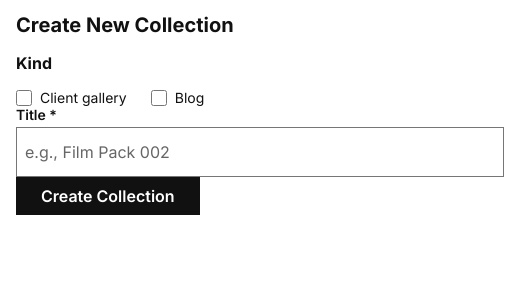
Test: CreateCollectionForm › surfaces an API error and does not redirect
Type "X" into the field labelled "Title *".
click(260, 152); type("X")  # box [16, 127, 504, 177]
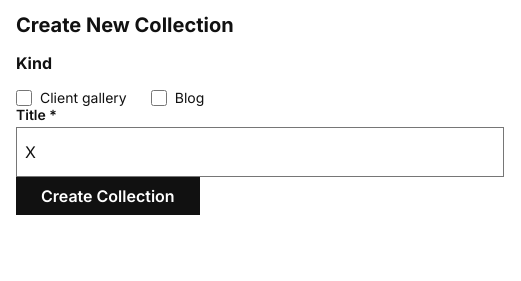
Click the button "Create Collection".
click(108, 196)  # box [16, 177, 200, 215]
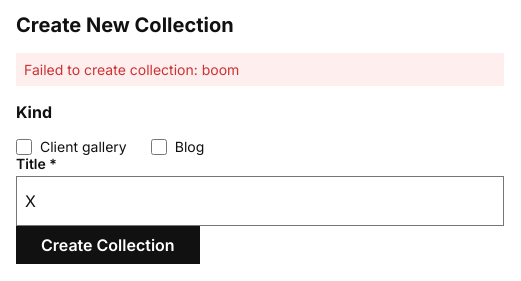
Expected: the text "Failed to create collection: boom" is shown, [16, 53, 504, 86]
